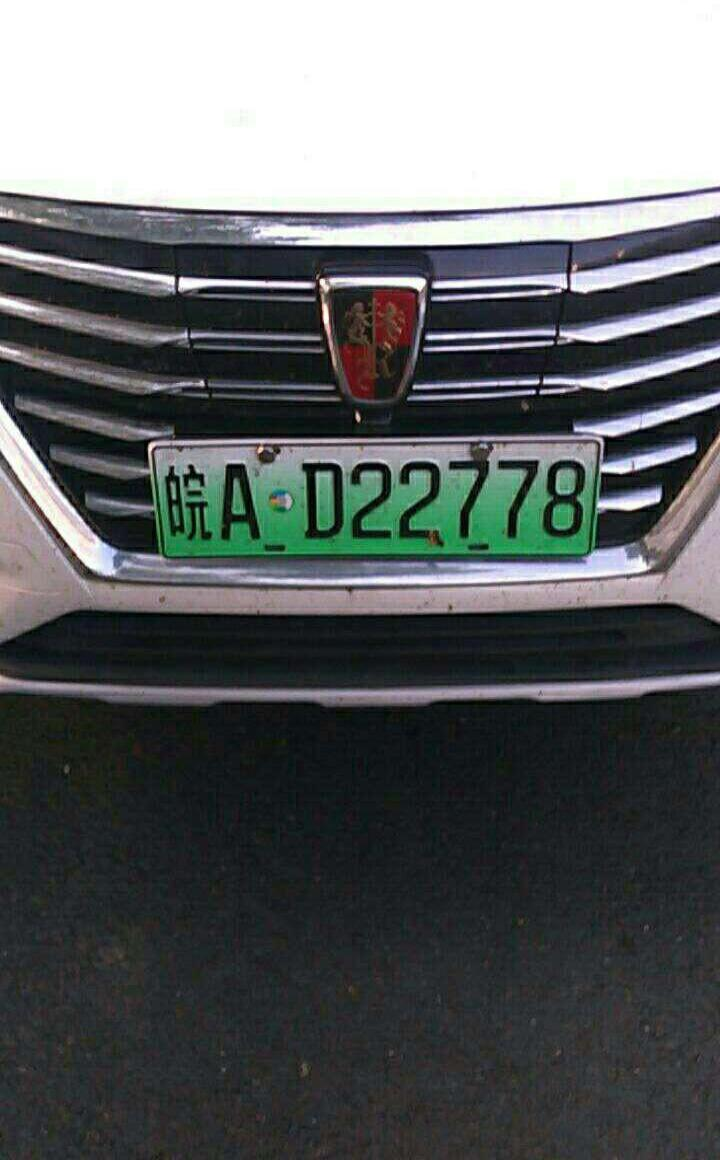car_id: (153, 442, 598, 558)
